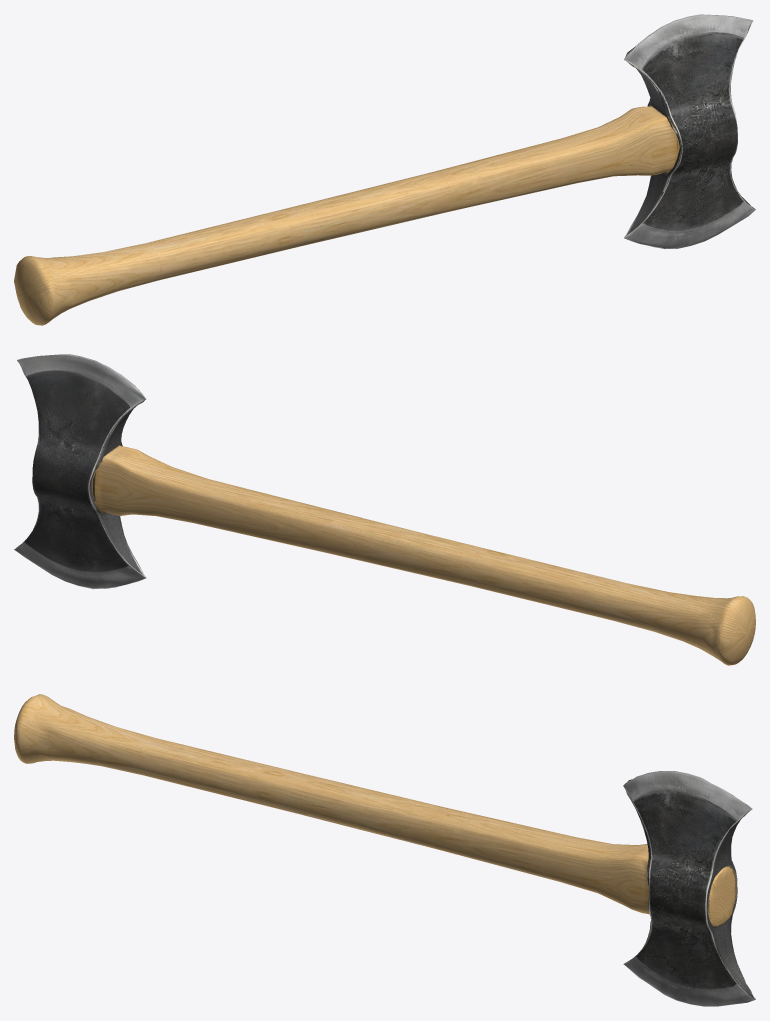
File: axe_double_bit.glb
The picture shows the model from 3 angles, top to bottom: view 1: azimuth 30°, elevation 25°; view 2: azimuth 150°, elevation 25°; view 3: azimuth 330°, elevation 25°; orthographic projection.
Bounding box in the file's own units: 0.957 × 0.2871 × 0.0796.
1 material, 1 textured.
